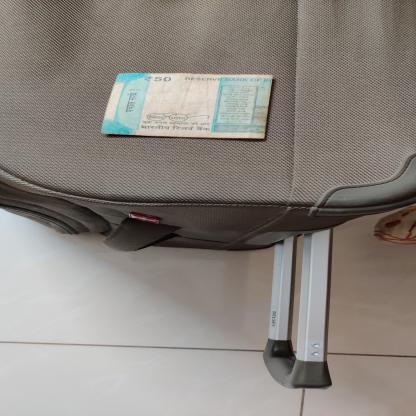New50Back: (102, 73, 272, 139)
